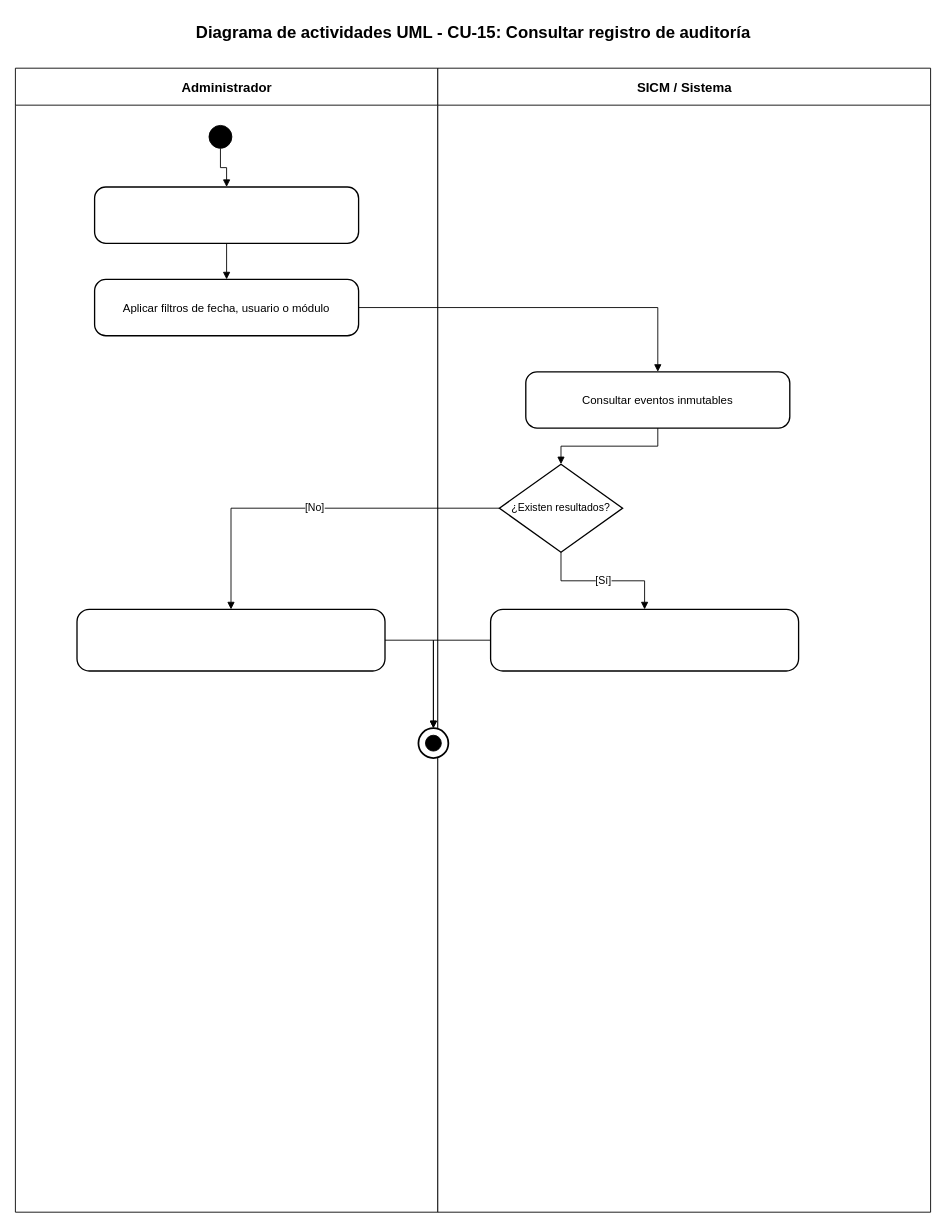
Some shapes in this 946 by 1228 pixel diagram are drawn without their labels. Each missing label, with the centre of its shape:
"Acceder a Auditoría del sistema" belongs at (226,215).
"Informar que no se encontraron registros" belongs at (230,639).
"Mostrar eventos cronológicamente" belongs at (644,639).
